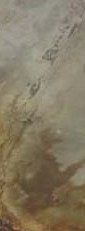Corrosion: (1, 111, 85, 231)
